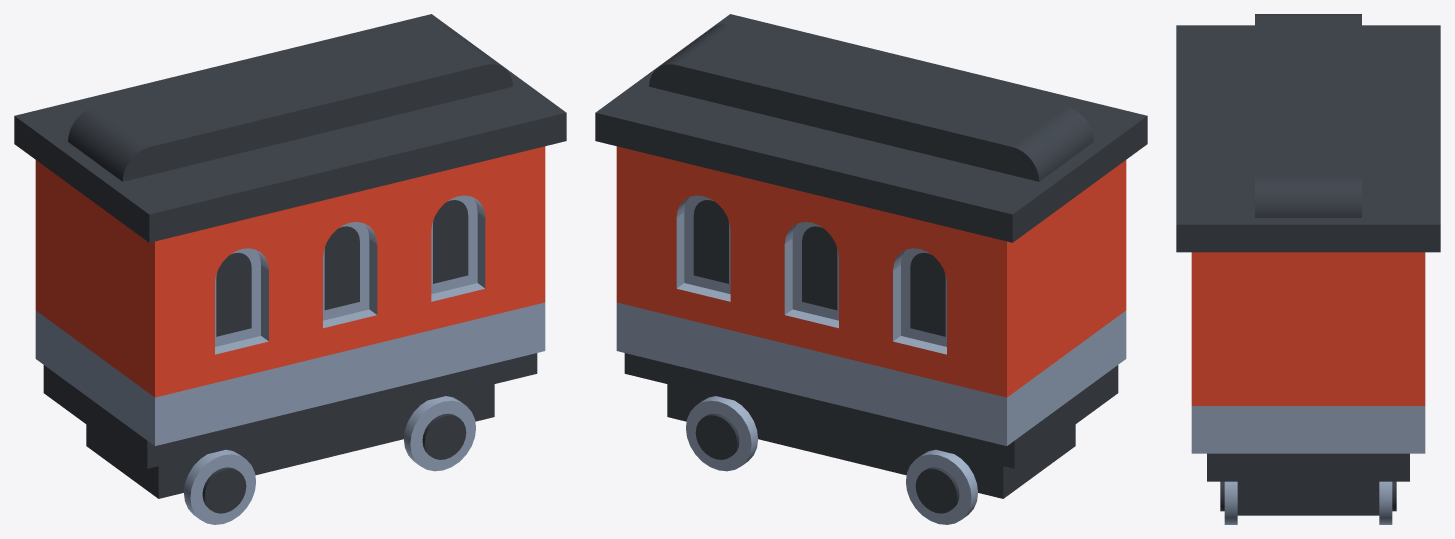
The model's file is trainWagonShort.dae.
3 views of the same model, side by side, from view 1: azimuth 30°, elevation 25°; view 2: azimuth 150°, elevation 25°; view 3: azimuth 270°, elevation 25° (orthographic). The views are drawn at different scales.
Parts seen in each view (by area): view 1: trainWagonShort; view 2: trainWagonShort; view 3: trainWagonShort.
Part boxes in pixels (box(x1,y1,x2,y2)): trainWagonShort: box(14, 14, 566, 524); trainWagonShort: box(595, 14, 1147, 524); trainWagonShort: box(1176, 14, 1440, 524).
Bounding box in the file's own units: 0.3084 × 0.2684 × 0.1727.
